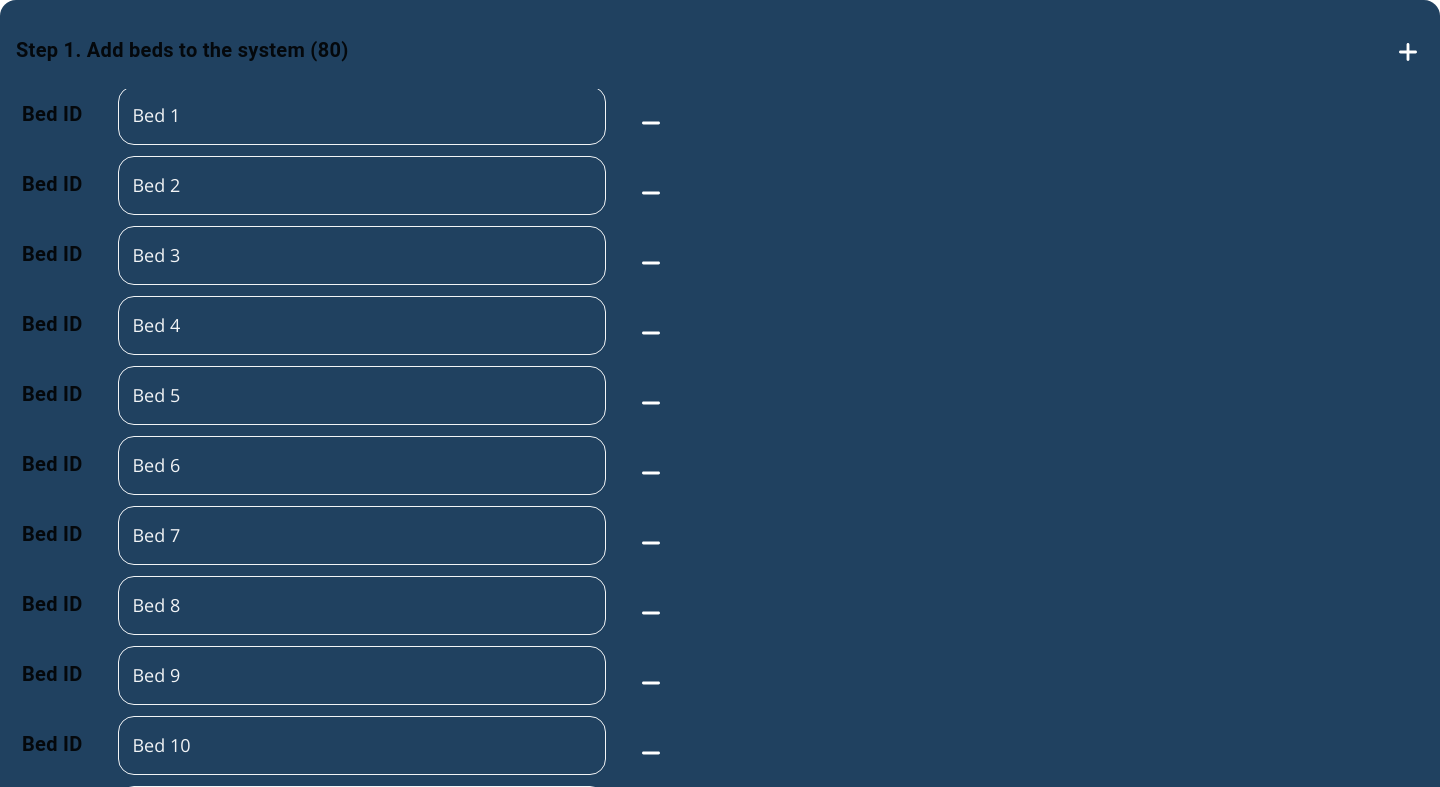
AddBedsContent › limits number of beds
Expected: the text "Step 1. Add beds to the system (80)" is shown, top-left (16, 38), bottom-right (348, 62)
Click the element with test id "add-bed": [1408, 52] box top-left (1399, 43), bottom-right (1417, 61)
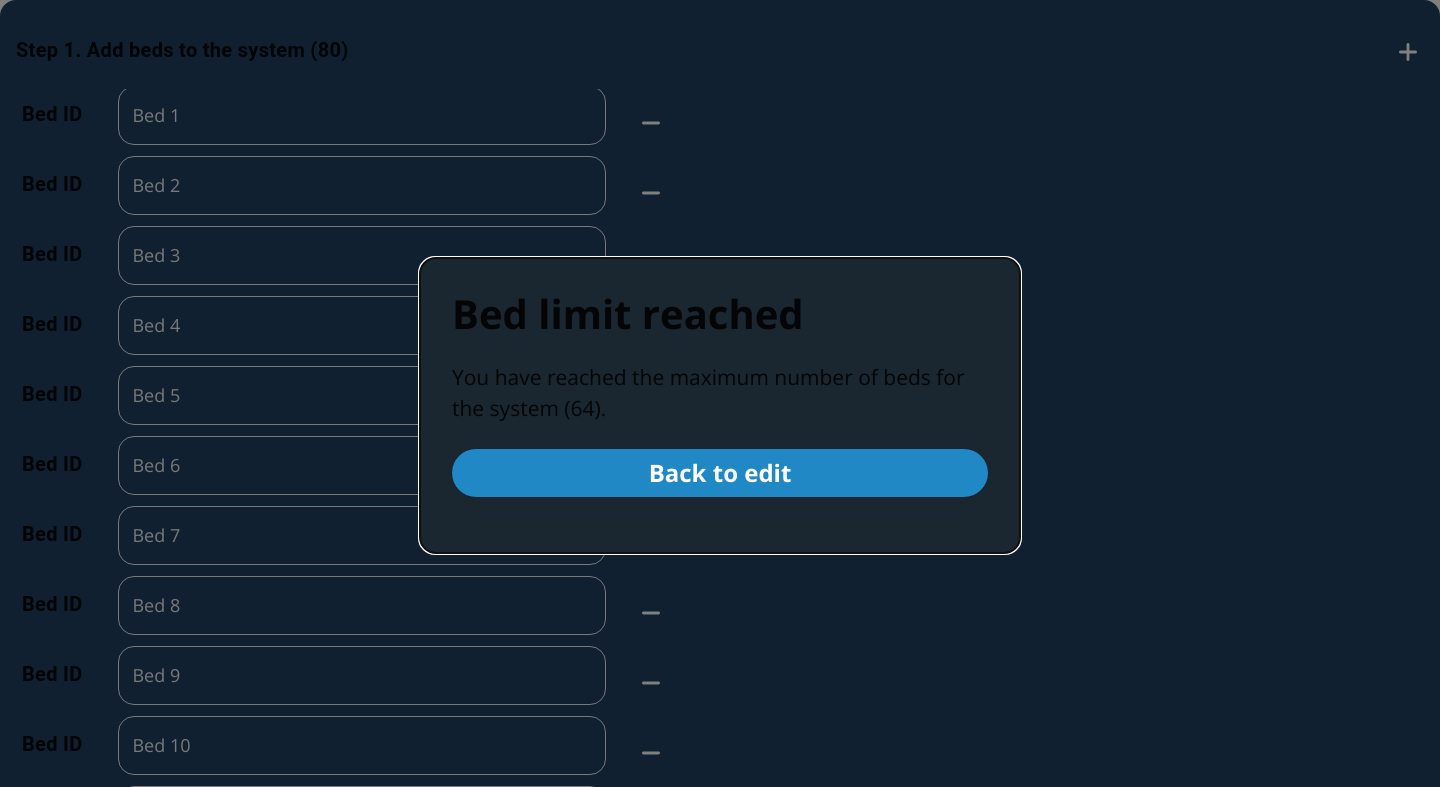
Expected: the heading "Bed limit reached" is shown, top-left (452, 286), bottom-right (804, 340)
Click the button "Back to edit": [720, 472] box top-left (452, 448), bottom-right (988, 496)
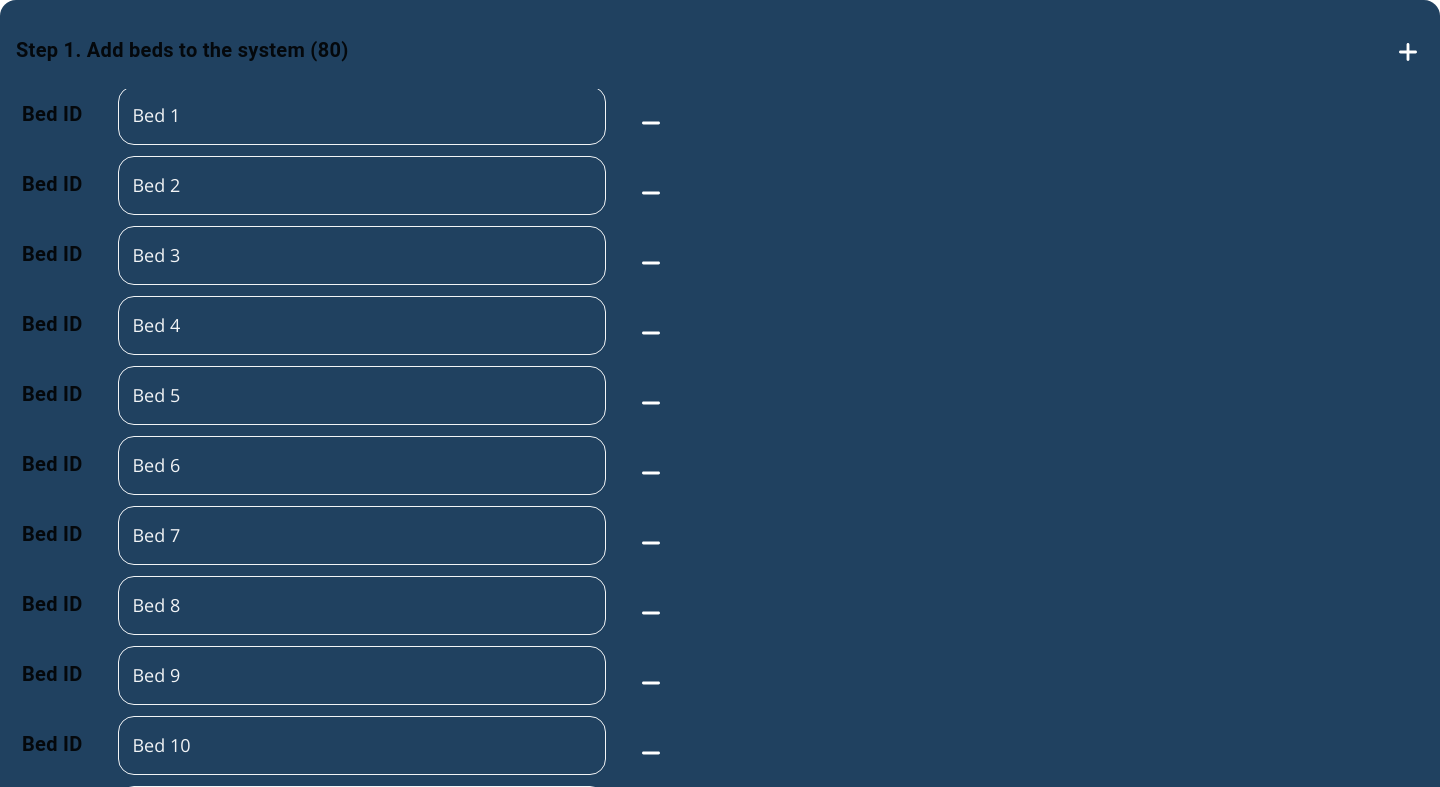
Expected: the heading "Bed limit reached" is gone
